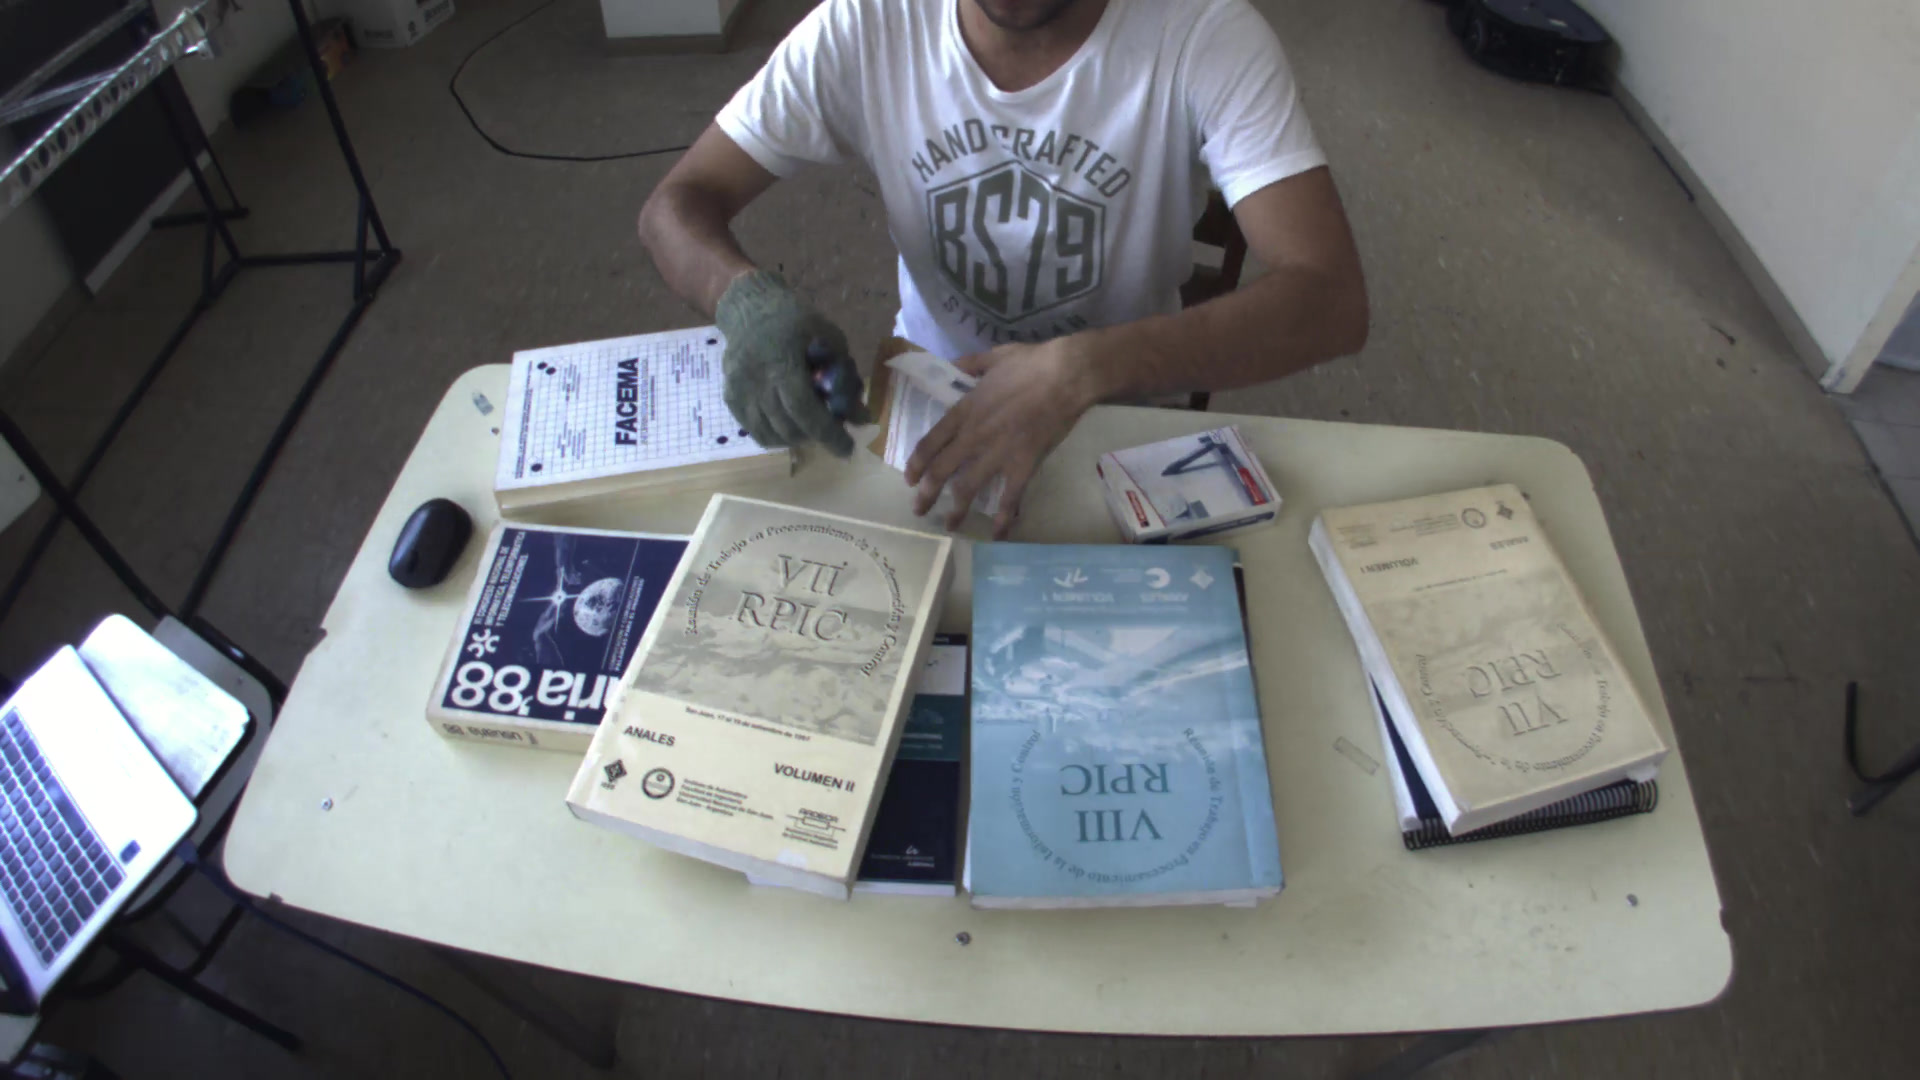hand: (891, 332, 1080, 543), (698, 266, 849, 452)
